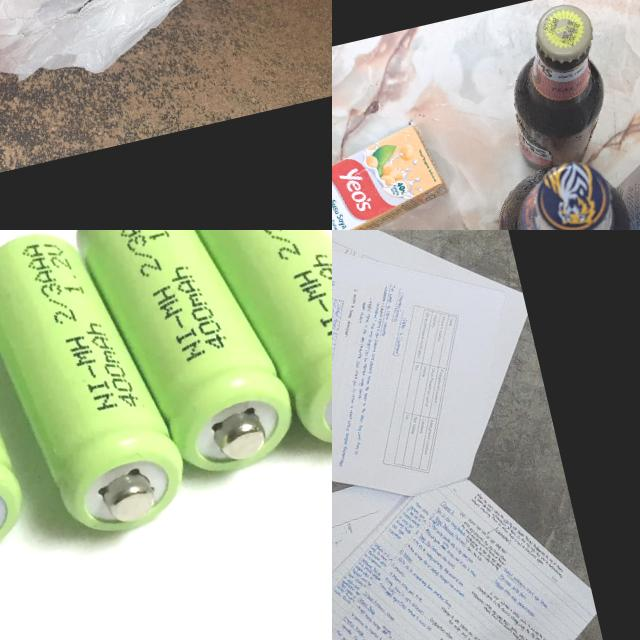bateria: (0, 230, 199, 550), (67, 230, 303, 496), (180, 230, 332, 469)
caixinha: (332, 118, 455, 230)
garrafa de vidro: (492, 0, 620, 175), (484, 150, 640, 230)
papel: (332, 230, 636, 640)
sacola plástica: (0, 0, 250, 137)
